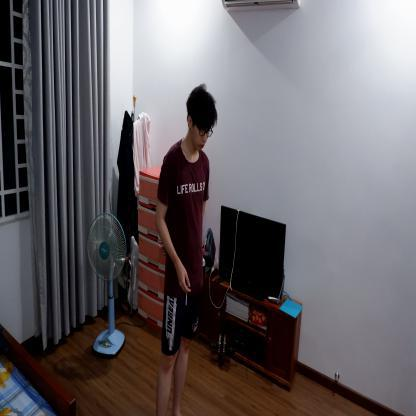cigarette: (185, 291, 188, 307)
person: (151, 80, 222, 415)
